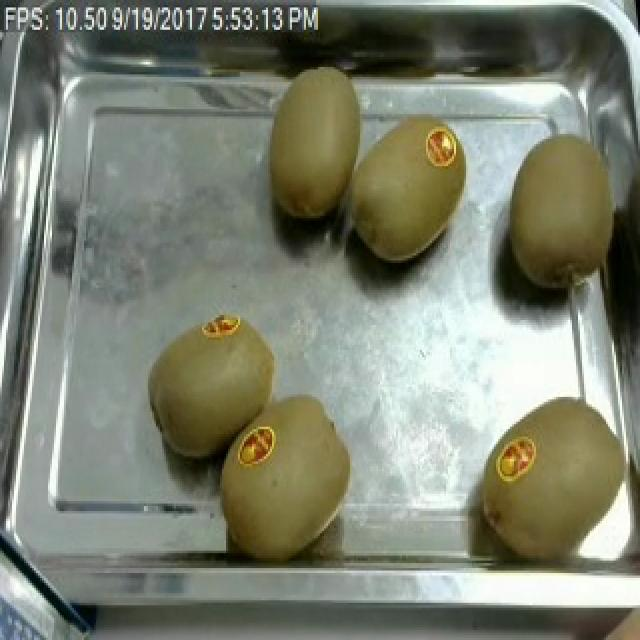Fruit: (474, 390, 640, 563), (212, 390, 362, 563), (494, 119, 632, 303), (334, 109, 476, 273), (140, 308, 286, 467), (260, 57, 374, 228)
